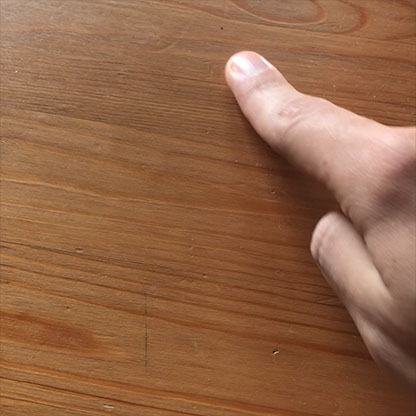fingertip: (212, 44, 286, 91)
